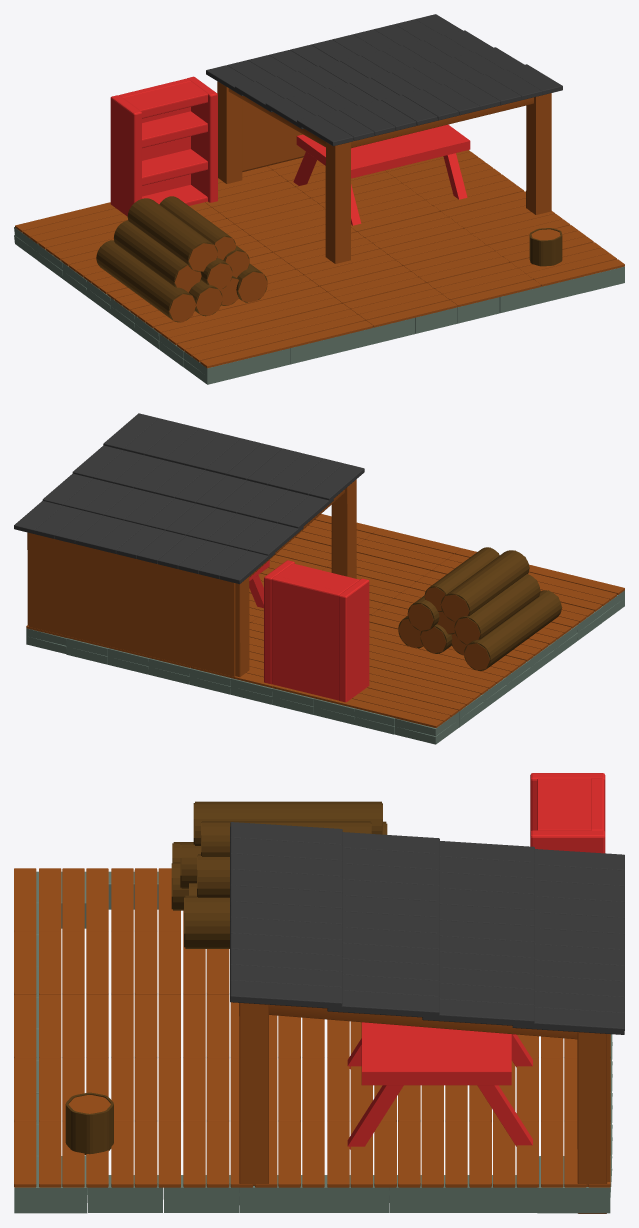
File: SM_LoggingCamp.fbx
3 renders of one model, top to bottom at view 1: azimuth 30°, elevation 25°; view 2: azimuth 150°, elevation 25°; view 3: azimuth 270°, elevation 25°, orthographic. The views are drawn at different scales.
Visible parts, largest first — view 1: SM_LoggingCamp; view 2: SM_LoggingCamp; view 3: SM_LoggingCamp.
Boxes of the visible parts, <box> form: SM_LoggingCamp: <box>14,14,624,384</box>; SM_LoggingCamp: <box>14,413,624,744</box>; SM_LoggingCamp: <box>14,773,624,1213</box>.
Size of what is drawn, in the model's own units: 1018 by 816 by 331.
